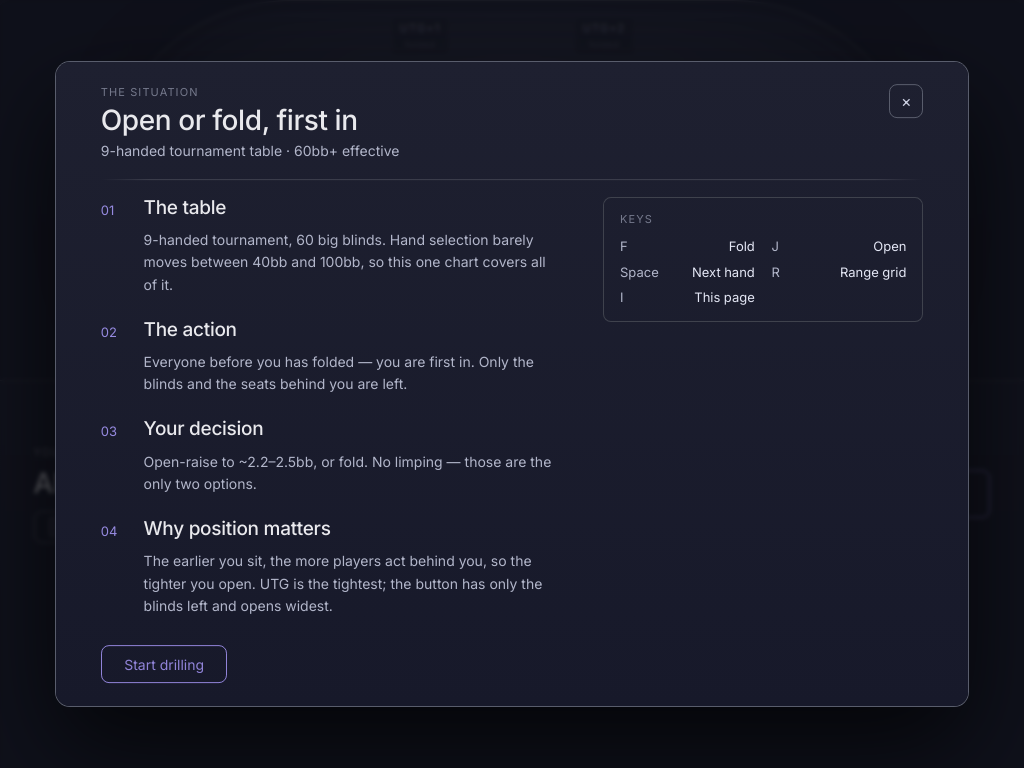
Test: PreflopTrainer › F key commits fold
The image size is (1024, 768).
Click the button named "close situation info" at (906, 102), box [889,84,923,118]
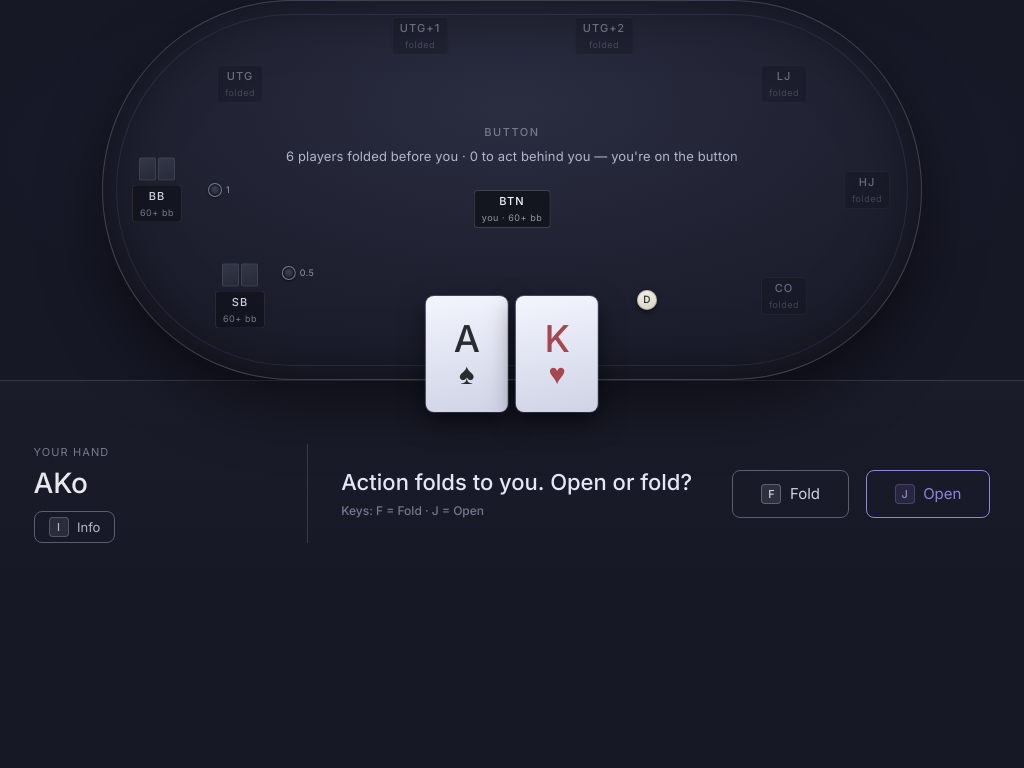
Press f
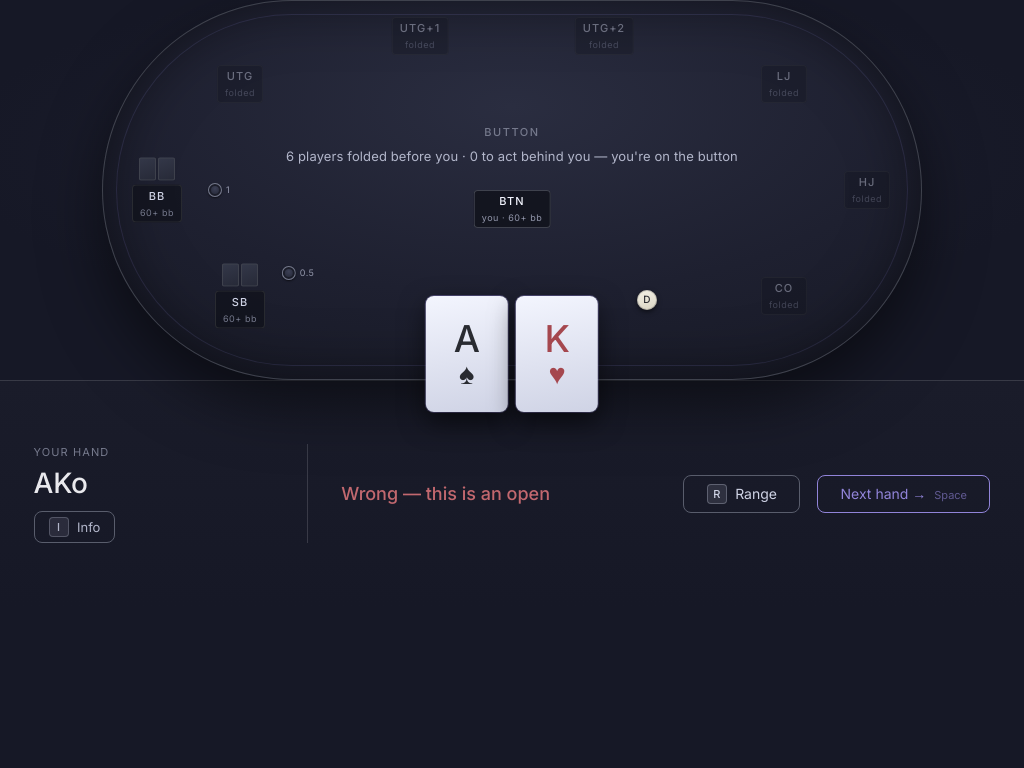
Expected: the text "Wrong — this is an open" is shown, [341,480,550,507]
